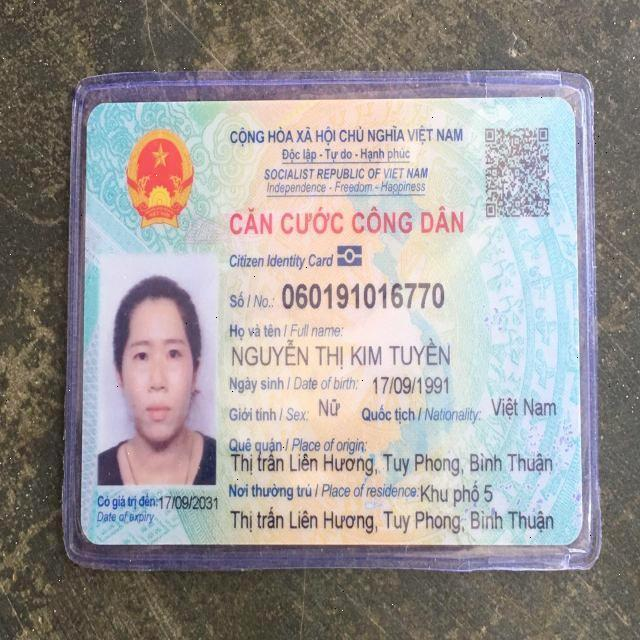current_place: (230, 503, 557, 534), (418, 478, 494, 504)
dob: (371, 374, 458, 401)
expire_date: (159, 489, 219, 514)
gender: (317, 392, 346, 416)
id: (278, 276, 448, 314)
name: (229, 337, 461, 367)
nationality: (483, 391, 564, 424)
origin_place: (230, 450, 554, 477)
qr: (479, 124, 556, 220)
